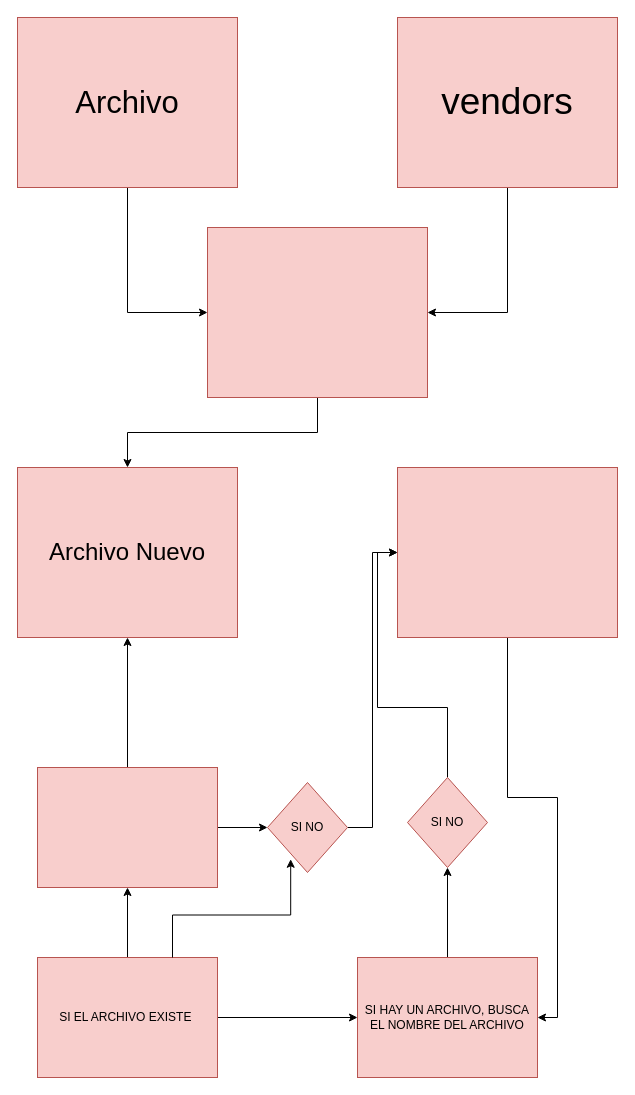
Image size: 635x1095. Some labels were removed from this diagram. The centre of each missing label's shape, as x and y in pixels:
Archivo Actualizado: (507,552)
Asociación: (317,312)
SE SUBE EL ARCHIVO Y REEMPLAZA EL NOMBRE: (127,827)
